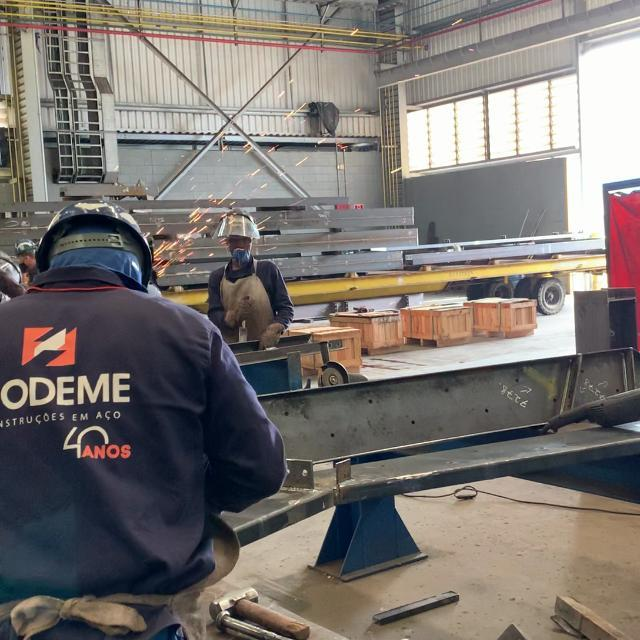eye-glass: (215, 217, 262, 241)
face-shield: (257, 324, 287, 350), (223, 307, 244, 329)
glove: (32, 198, 153, 281)
mask: (1, 197, 292, 636), (203, 210, 295, 357)
